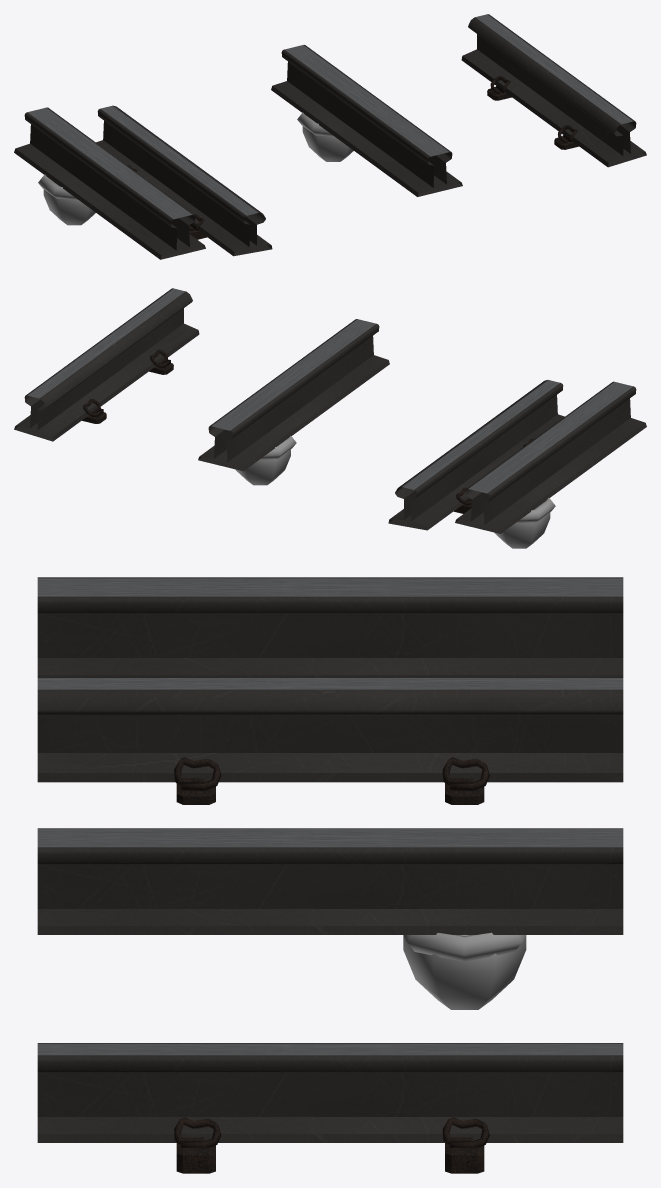
Rendered from nosleepers.obj.
3 renders of one model, top to bottom at view 1: azimuth 30°, elevation 25°; view 2: azimuth 150°, elevation 25°; view 3: azimuth 270°, elevation 25°, orthographic. The views are drawn at different scales.
Parts seen in each view (by area): view 1: Full_LOD0_LOD0.018, Full_LOD0_LOD0.026, Full_LOD0_LOD0.025, Sphere.005, Sphere.004; view 2: Full_LOD0_LOD0.018, Full_LOD0_LOD0.026, Full_LOD0_LOD0.025, Sphere.005, Sphere.004; view 3: Full_LOD0_LOD0.018, Full_LOD0_LOD0.025, Full_LOD0_LOD0.026, Sphere.004, Full_LOD0_LOD0.023, Full_LOD0_LOD0.021, Full_LOD0_LOD0.024, Full_LOD0_LOD0.020.
Part boxes in pixels (x1,y1,x2,y2): Full_LOD0_LOD0.018: [96, 14, 646, 256]; Full_LOD0_LOD0.026: [14, 107, 205, 259]; Full_LOD0_LOD0.025: [271, 45, 462, 196]; Sphere.005: [38, 174, 95, 225]; Sphere.004: [297, 112, 353, 161]; Full_LOD0_LOD0.018: [14, 288, 564, 530]; Full_LOD0_LOD0.026: [455, 381, 646, 533]; Full_LOD0_LOD0.025: [198, 319, 389, 471]; Sphere.005: [495, 498, 555, 548]; Sphere.004: [235, 436, 296, 485]; Full_LOD0_LOD0.018: [37, 677, 623, 1142]; Full_LOD0_LOD0.025: [37, 828, 623, 934]; Full_LOD0_LOD0.026: [37, 577, 623, 676]; Sphere.004: [403, 932, 526, 1009]; Full_LOD0_LOD0.023: [174, 757, 221, 1148]; Full_LOD0_LOD0.021: [442, 757, 489, 1147]; Full_LOD0_LOD0.024: [176, 783, 215, 1173]; Full_LOD0_LOD0.020: [445, 783, 484, 1173].
Size of the model in its own units: 2.05 by 0.3256 by 1.02.
4 materials, 4 textured.
